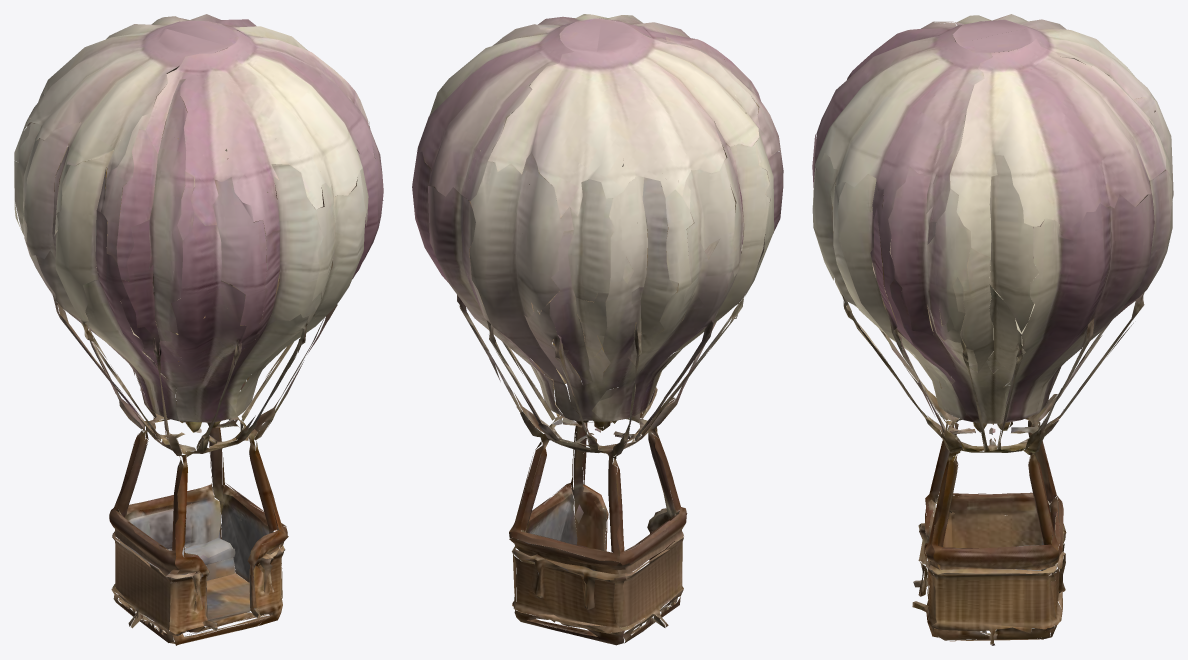
The model's file is balloon-closed.glb.
The picture shows the model from 3 angles, left to right: view 1: azimuth 30°, elevation 25°; view 2: azimuth 150°, elevation 25°; view 3: azimuth 270°, elevation 25°; orthographic projection.
Parts seen in each view (by area): view 1: geometry_0; view 2: geometry_0; view 3: geometry_0.
Part boxes in pixels (x1,y1,x2,y2): geometry_0: [14, 14, 383, 645]; geometry_0: [412, 14, 783, 645]; geometry_0: [812, 14, 1173, 645].
Size of the model in its own units: 0.5113 by 0.9037 by 0.5105.
1 material, 1 textured.
